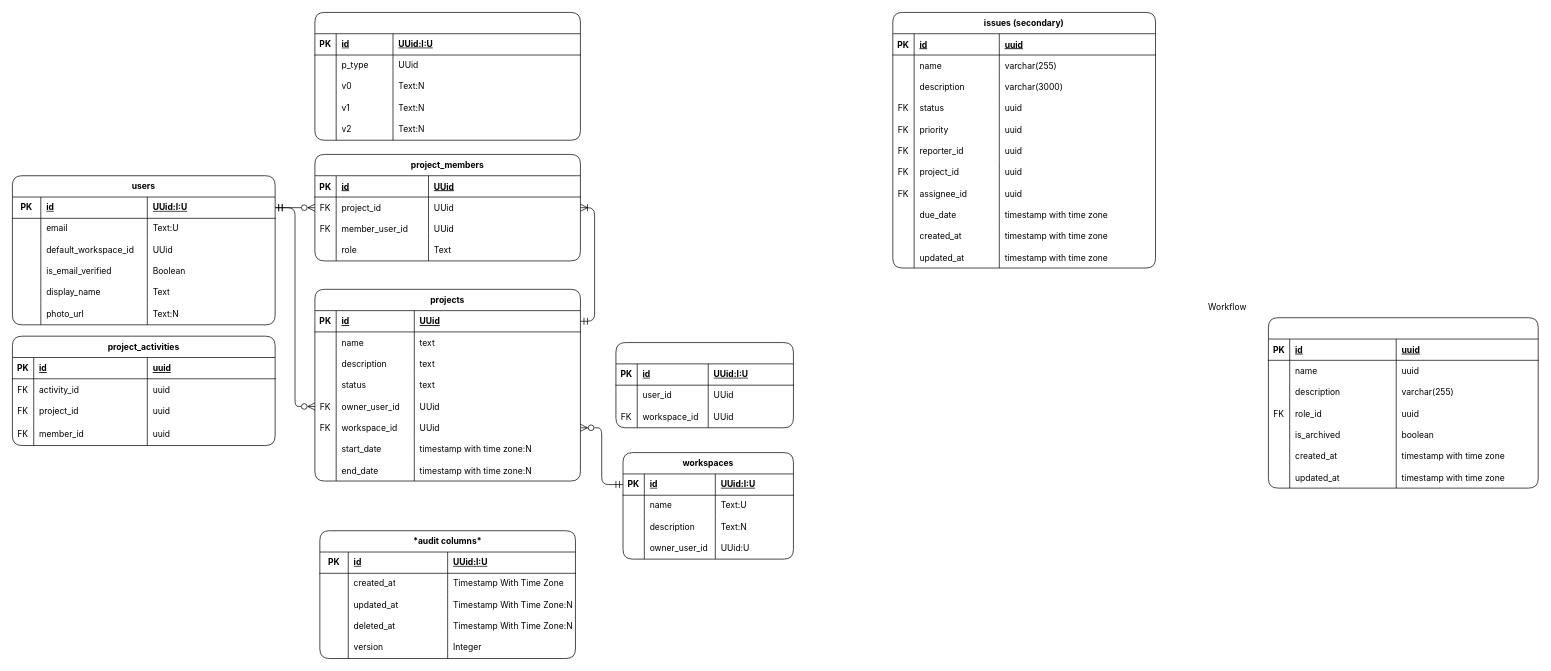
Some shapes in this 1551 by 671 pixel diagram are drawn without their labels. Each missing label, with the box of its shape:
project_member_permissions: (314, 12, 580, 140)
project_role_permissions (schema): (1268, 317, 1538, 488)
workspace_members: (615, 342, 793, 428)
